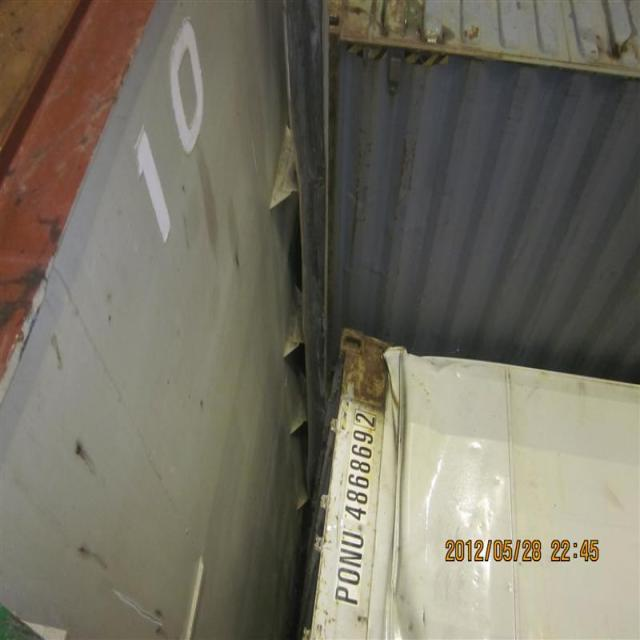dent: (379, 345, 420, 640)
